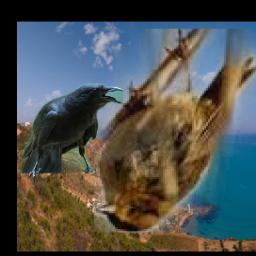Crow: (18, 83, 123, 184)
Sparrow: (94, 30, 256, 234)
